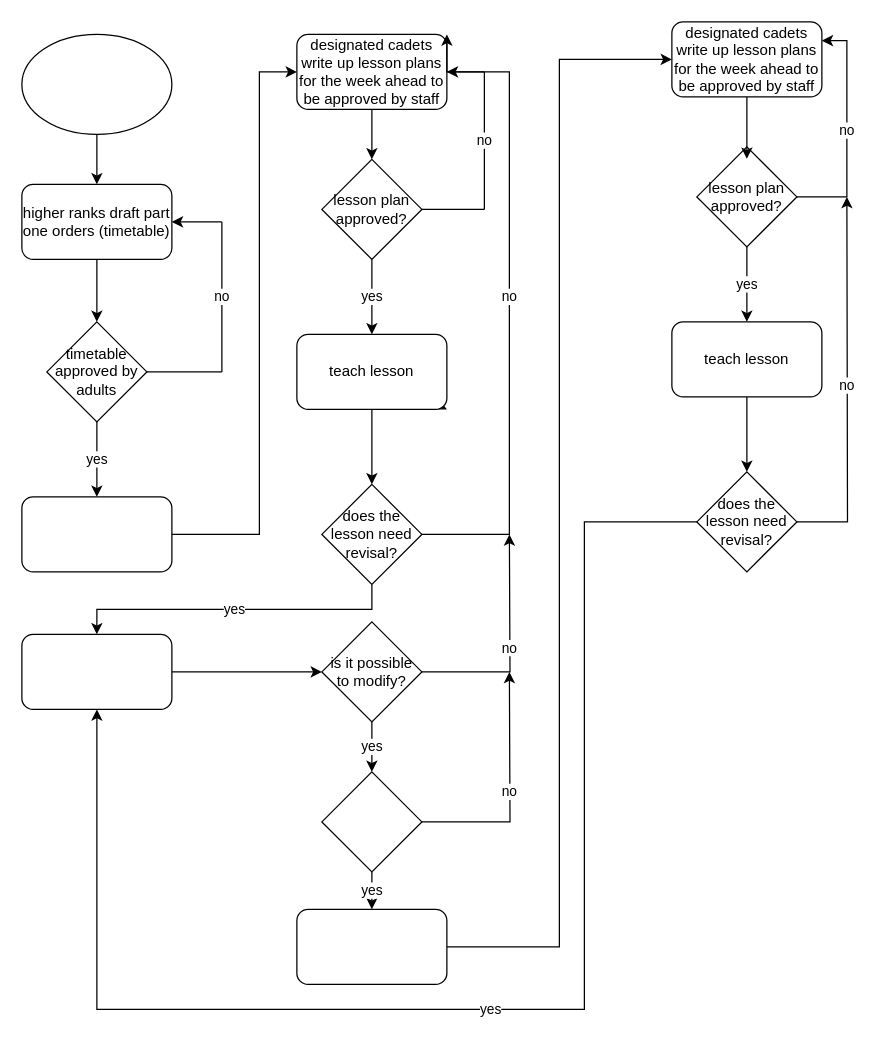
This 880x1041 diagram has some shape labels left out. The centre of each missing label's shape, as x and y in pixels:
"discus with seniors modifying the timetable" belongs at [96,671].
"does the SSI agree?" belongs at [371,821].
"post the modified schedule on the senior WhatsApp group" belongs at [371,946].
"send out part one orders with lesson names and dates" belongs at [96,534].
"start of new school term" belongs at [96,83].
